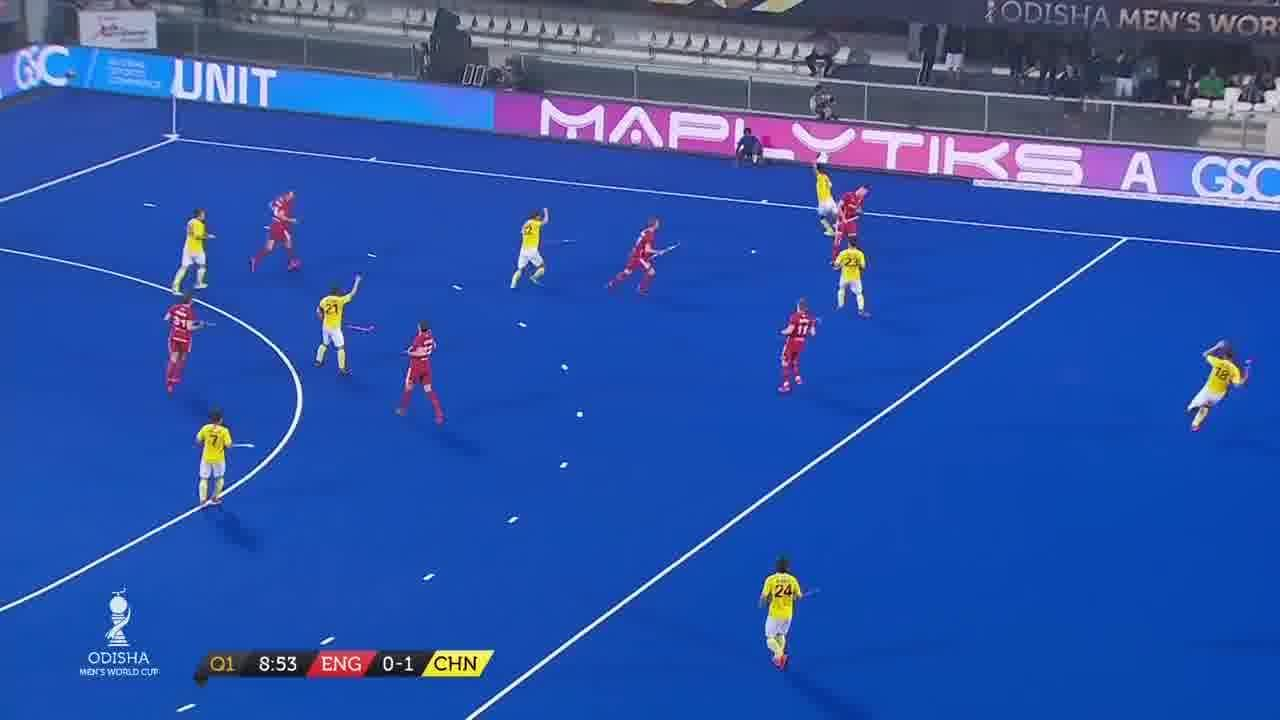ball: (749, 245, 762, 258)
